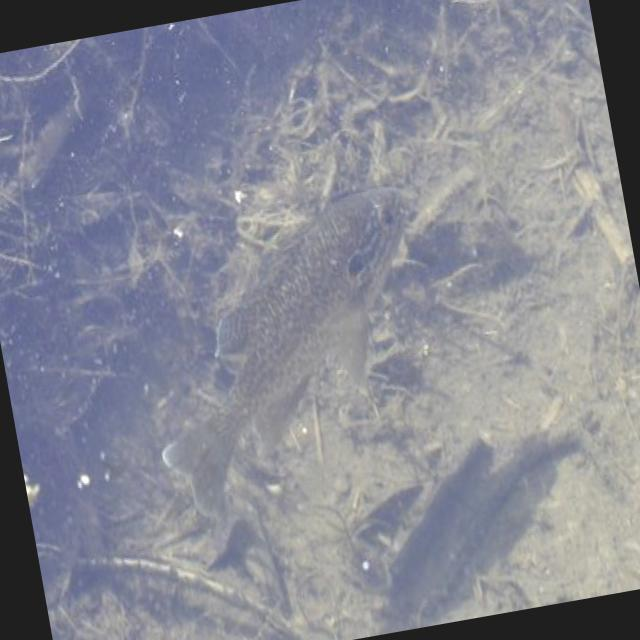Gunes Levregi: (121, 172, 452, 520)
